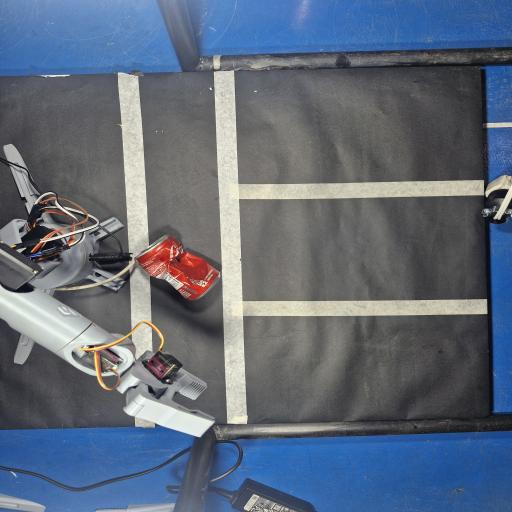lata_defectuoso: (137, 236, 219, 301)
